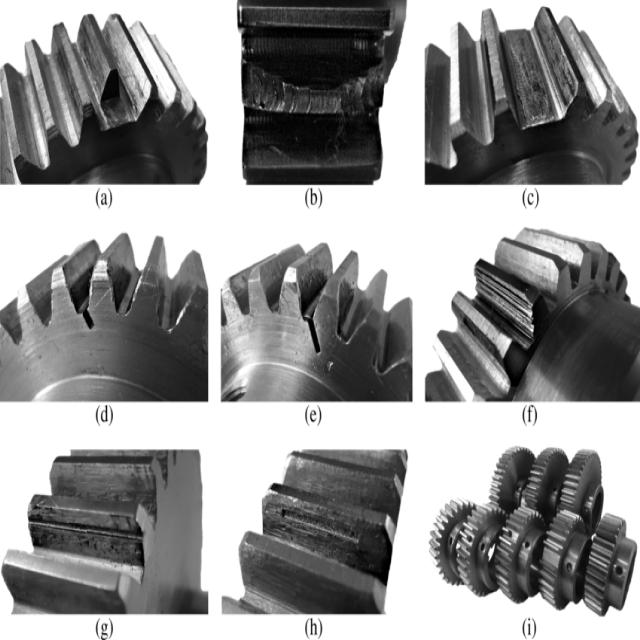Fault-Exist: (426, 18, 626, 163), (222, 15, 391, 184), (11, 236, 209, 364), (236, 242, 396, 374), (42, 14, 189, 143), (30, 473, 154, 560), (254, 491, 393, 551), (466, 259, 542, 343)
